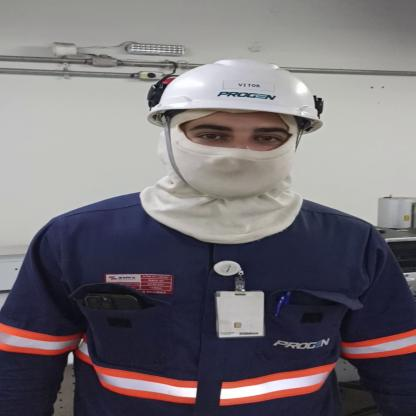Balaclava: (134, 111, 311, 243)
Capacete: (134, 56, 349, 127)
